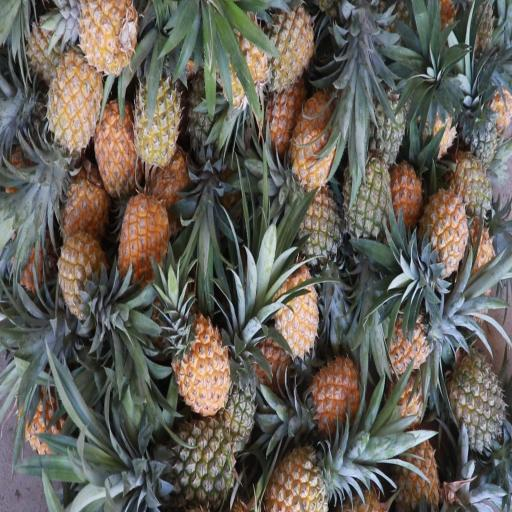------------------------------: (290, 148, 341, 266), (452, 140, 492, 225)
Pineapple - v8 v1: (38, 27, 104, 147), (283, 54, 342, 175), (166, 305, 229, 410), (299, 348, 361, 453), (127, 50, 183, 165), (48, 212, 104, 323), (262, 423, 331, 512), (112, 179, 170, 284), (413, 192, 471, 295), (379, 413, 439, 512), (87, 75, 137, 191), (369, 301, 433, 389), (270, 237, 316, 356), (260, 4, 312, 82)
